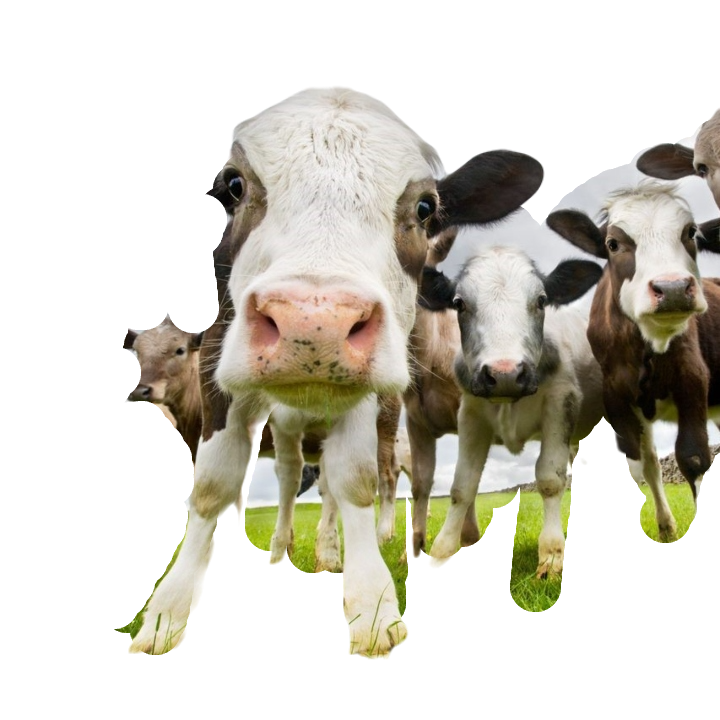Cow: (114, 86, 545, 663)
